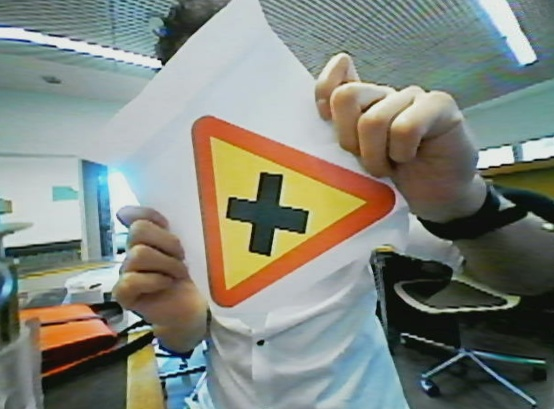junction: (187, 106, 396, 316)
